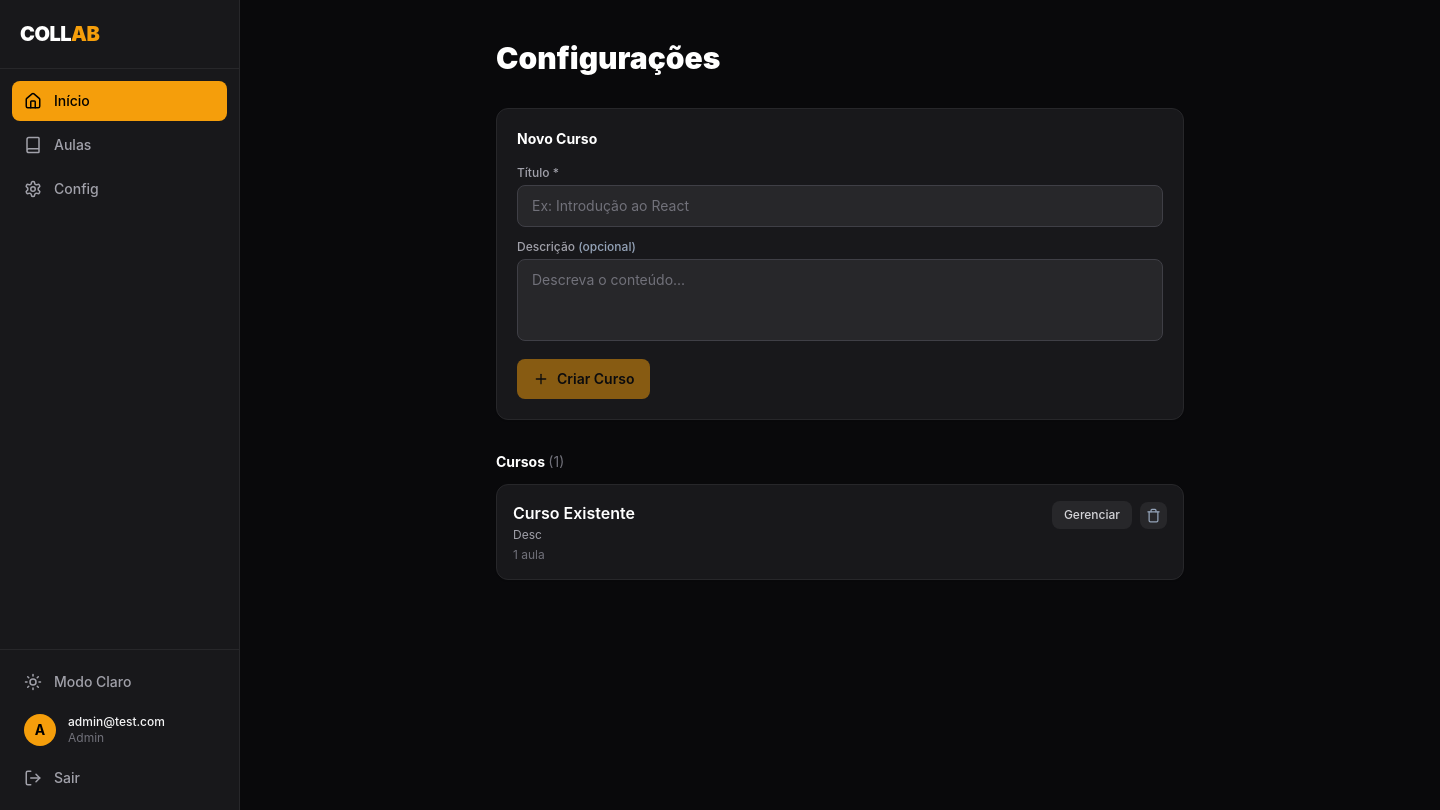
ConfigPage › deletes a course after confirm
Expected: the text "Curso Existente" is shown, [513,501,635,525]
Click the button with test id "delete-course-c1".
click(1154, 515)  # box [1140,502,1167,528]
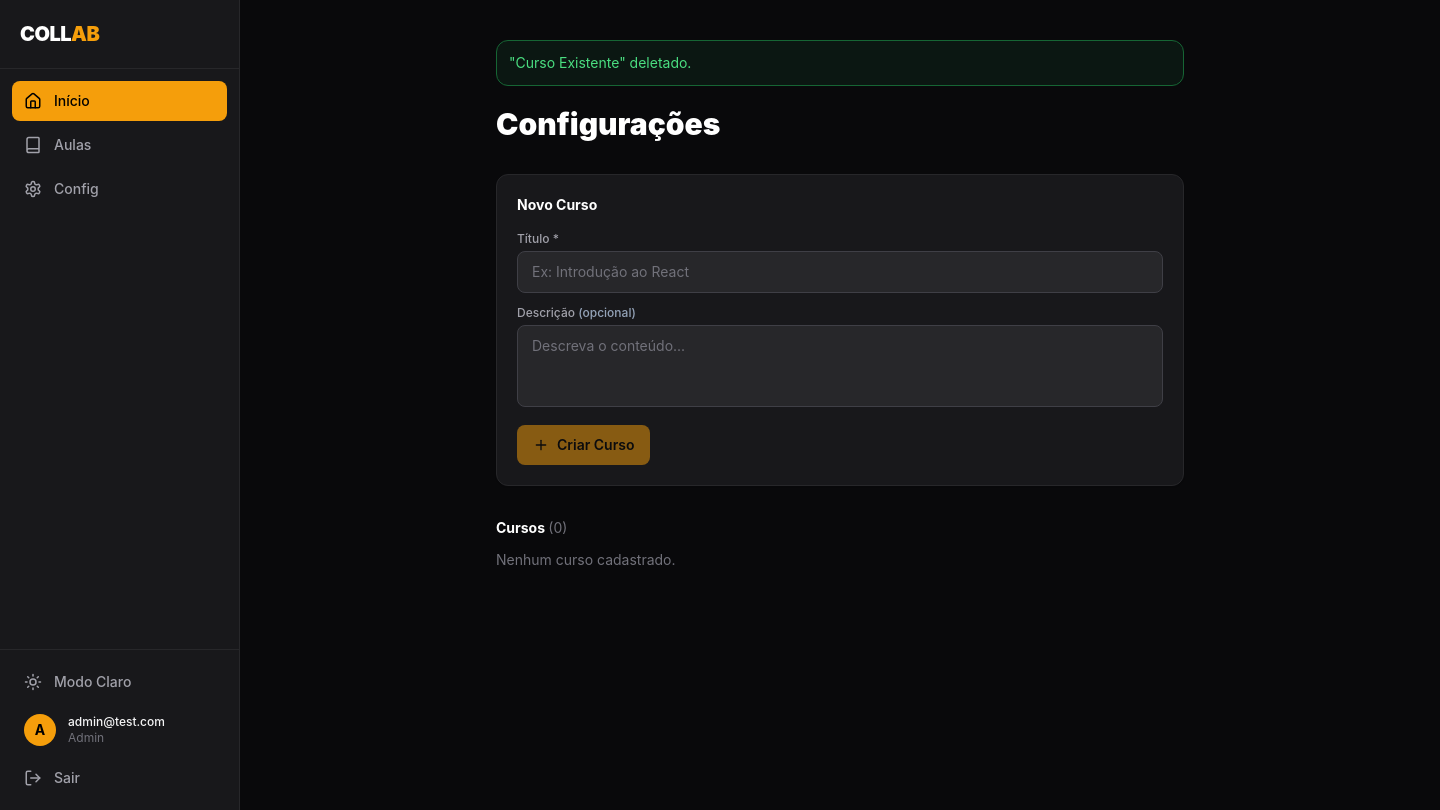
Result: the text "\"Curso Existente\" deletado." is shown at [496,40,1184,86]
